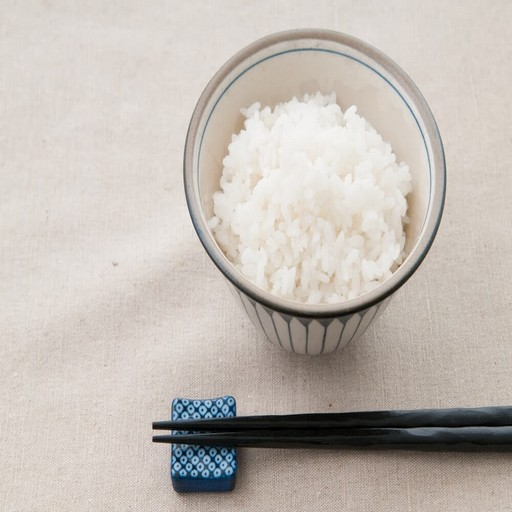rice: (251, 136, 366, 249)
